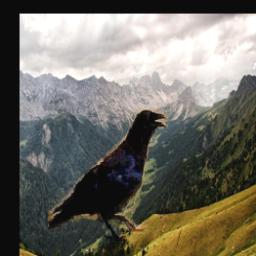Crow: (47, 109, 167, 243)
